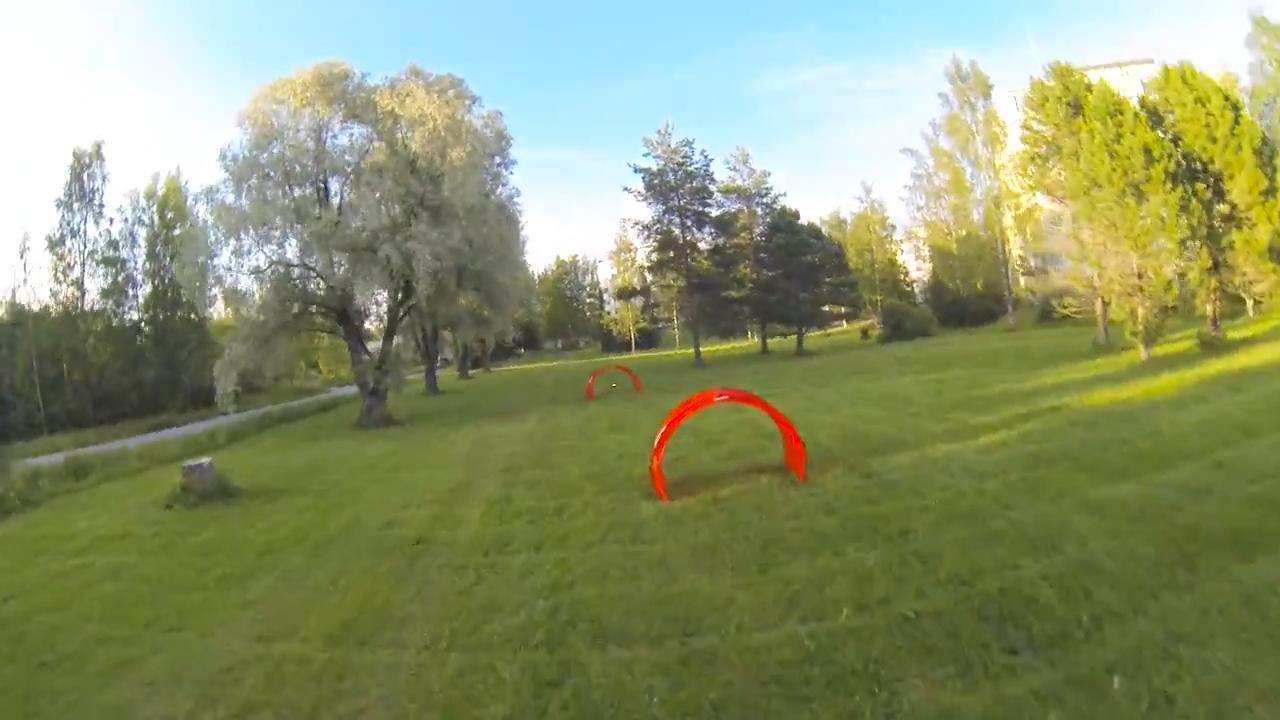gate: (644, 385, 810, 504)
